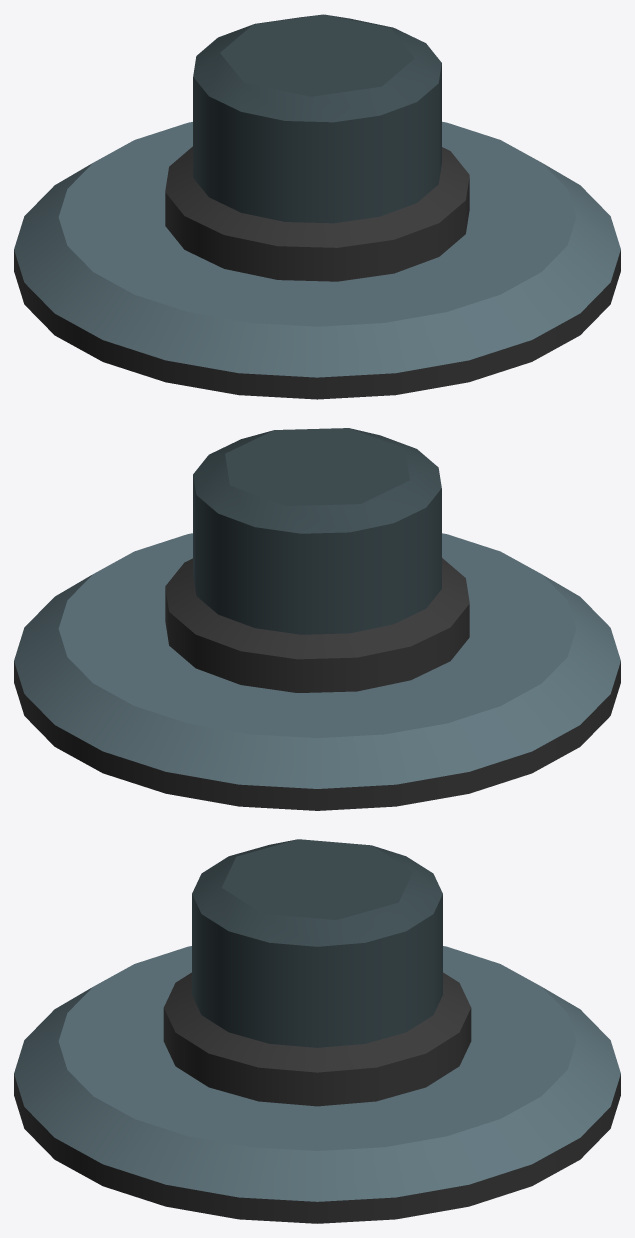
The model's file is Armchair_007.fbx.
The picture shows the model from 3 angles, top to bottom: view 1: azimuth 30°, elevation 25°; view 2: azimuth 150°, elevation 25°; view 3: azimuth 270°, elevation 25°; orthographic projection.
Visible parts, largest first — view 1: Armchair_007; view 2: Armchair_007; view 3: Armchair_007.
Part boxes in pixels (<box>): Armchair_007: <box>14,14,620,399</box>; Armchair_007: <box>14,428,620,810</box>; Armchair_007: <box>14,839,620,1223</box>.
Size of the model in its own units: 55.18 by 55.14 by 21.63.
